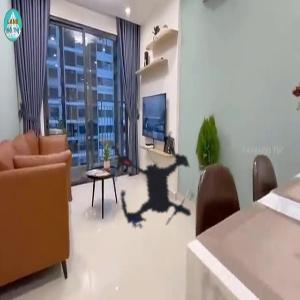drone: (57, 82, 264, 289)
